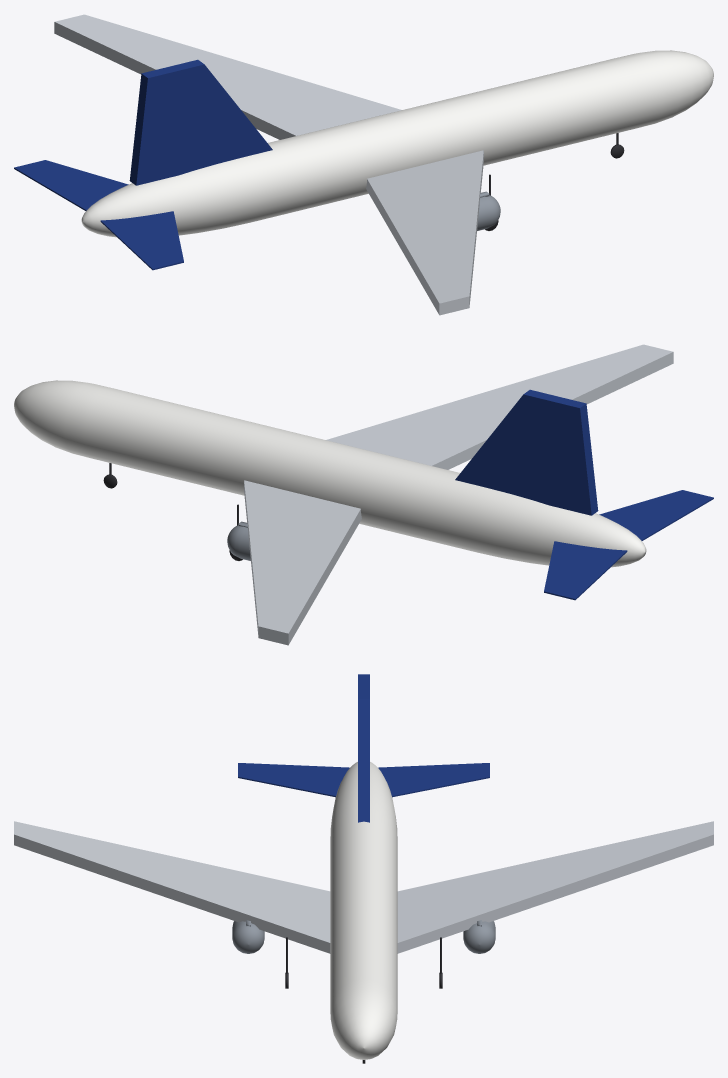
3 views of the same model, one above another, from view 1: azimuth 30°, elevation 25°; view 2: azimuth 150°, elevation 25°; view 3: azimuth 270°, elevation 25° (orthographic). The views are drawn at different scales.
Parts seen in each view (by area): view 1: fuselage, wings, tail, engines; view 2: fuselage, wings, tail, engines; view 3: wings, fuselage, tail, engines.
Boxes of the visible parts, <box> form: fuselage: <box>81,50,713,237</box>; wings: <box>54,14,483,315</box>; tail: <box>14,59,272,270</box>; engines: <box>477,191,500,230</box>; fuselage: <box>14,380,646,567</box>; wings: <box>244,344,673,645</box>; tail: <box>455,389,713,600</box>; engines: <box>227,521,250,560</box>; wings: <box>14,821,713,953</box>; fuselage: <box>330,762,397,1059</box>; tail: <box>238,674,489,822</box>; engines: <box>232,920,495,953</box>.
Size of the model in its own units: 56.7 by 16.99 by 60.1.
